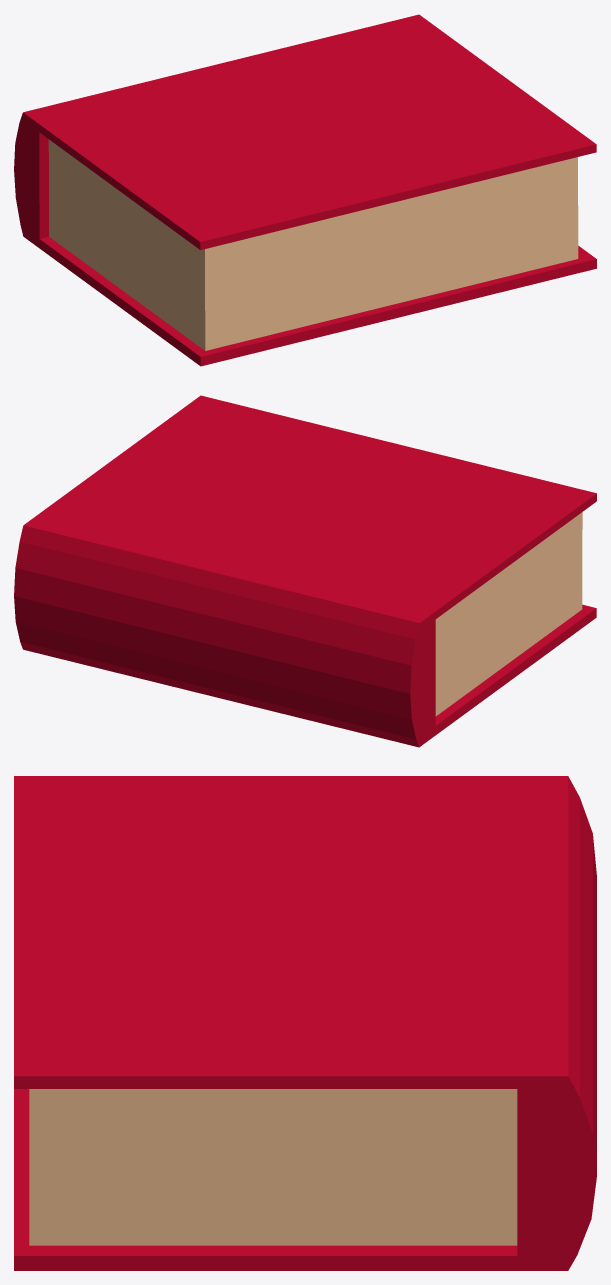
File: Book_Red.fbx
3 views of the same model, one above another, from view 1: azimuth 30°, elevation 25°; view 2: azimuth 150°, elevation 25°; view 3: azimuth 270°, elevation 25° (orthographic). The views are drawn at different scales.
Visible parts, largest first — view 1: Book_3.006; view 2: Book_3.006; view 3: Book_3.006.
Boxes of the visible parts, bbox=[...] form: Book_3.006: bbox=[14, 14, 596, 366]; Book_3.006: bbox=[14, 395, 596, 747]; Book_3.006: bbox=[14, 776, 596, 1270].
Bounding box in the file's own units: 48.04 × 14.54 × 39.16.
